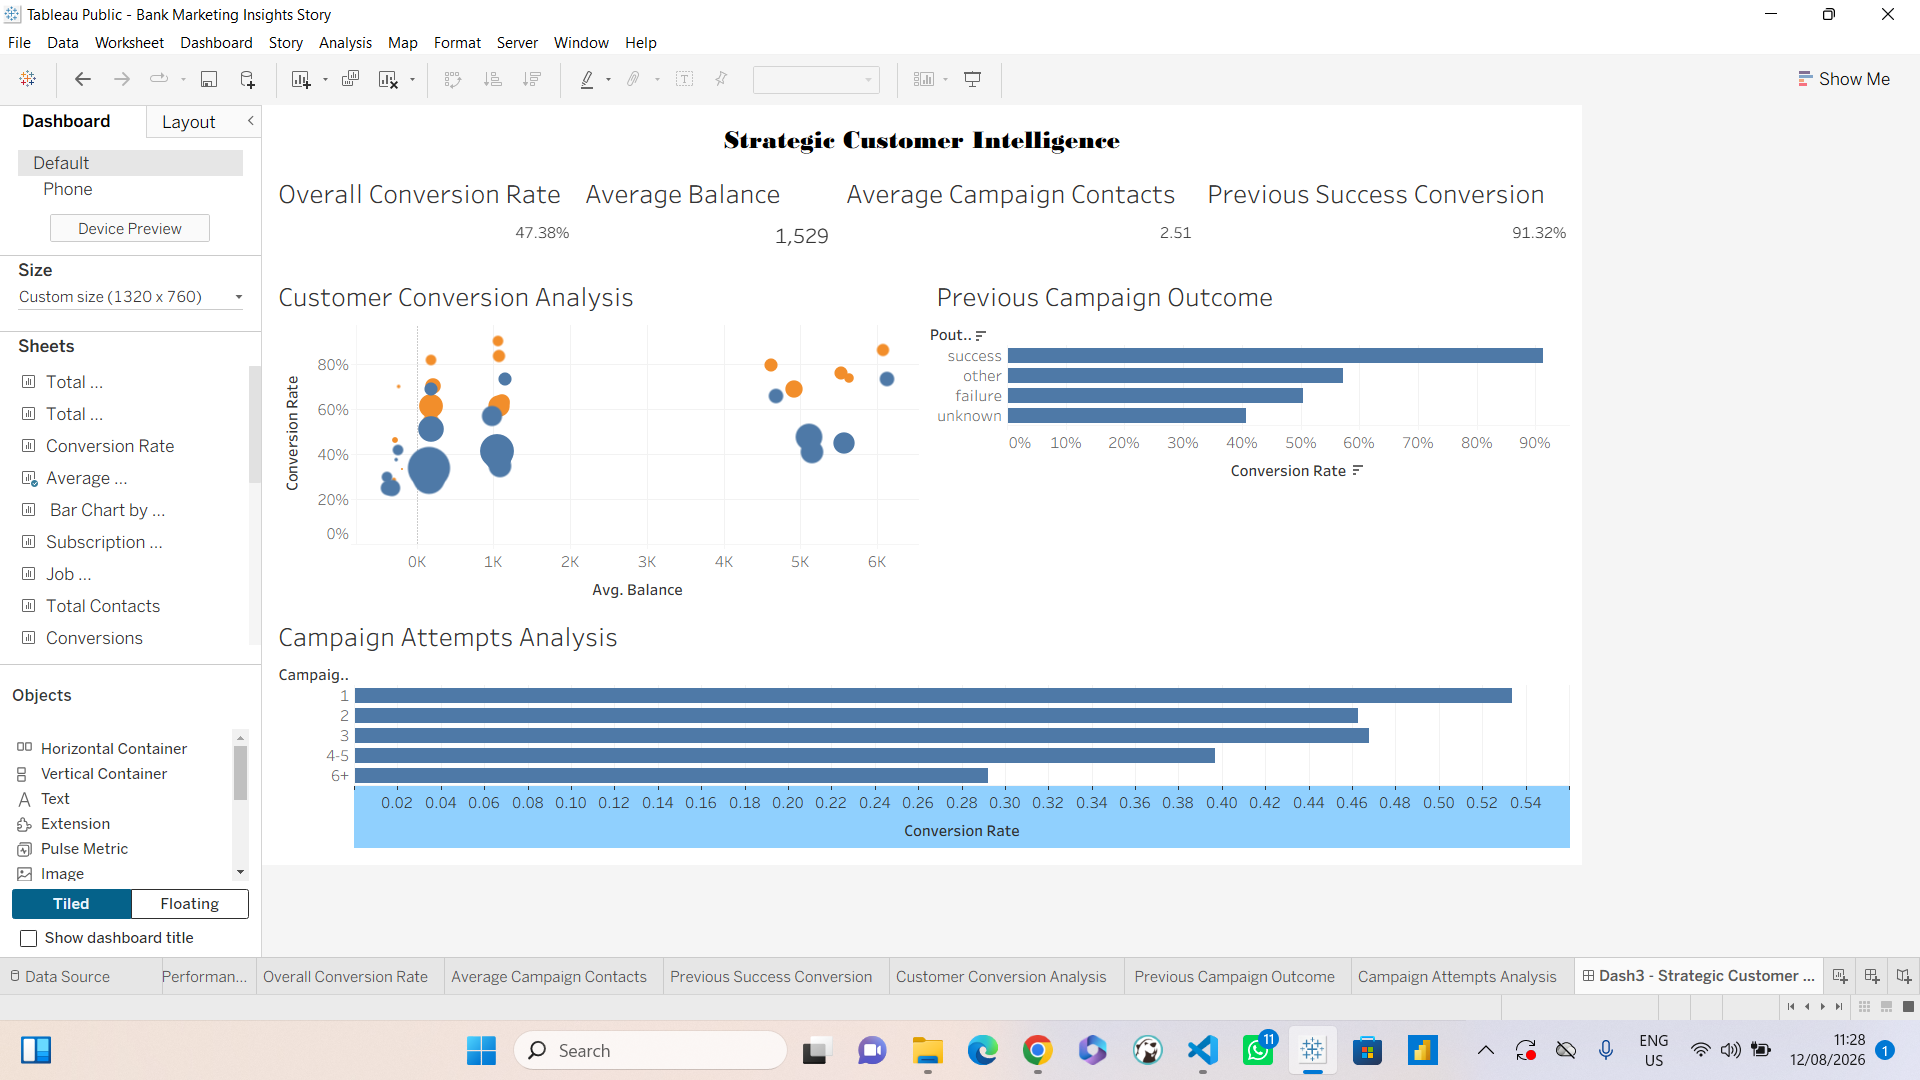

What the dashboard file says about the page in this screenshot:
{"tool":"tableau","page":{"name":"Dash3 - Strategic Customer Intelligence","canvas":[1320,760],"ordinal":2},"visuals":[{"type":"text","box":[8,8,1304,54.9]},{"type":"worksheet","title":"Overall Conversion Rate","mark":"Automatic","box":[8,62.9,307,103.1]},{"type":"worksheet","title":"Average Balance","mark":"Automatic","box":[315,62.9,261,103.1]},{"type":"worksheet","title":"Average Campaign Contacts","mark":"Automatic","box":[576,62.9,361,103.1]},{"type":"worksheet","title":"Previous Success Conversion","mark":"Automatic","box":[937,63,375,103]},{"type":"worksheet","title":"Customer Conversion Analysis","mark":"Circle","rows":["Calculation_0653690154676225"],"cols":["balance"],"box":[8,166,653,340]},{"type":"worksheet","title":" Previous Campaign Outcome","mark":"Automatic","rows":["poutcome"],"cols":["Calculation_0653690154676225"],"box":[661,166,651,340]},{"type":"worksheet","title":"Campaign Attempts Analysis","mark":"Automatic","rows":["Calculation_0653690179207184"],"cols":["Calculation_0653690154676225"],"box":[8,506,1304,246]}]}

Visuals, with their boxes on the page's 1320x760 design canvas (x1, y1, x2, y2). These are canvas units, not pixel positions in the 1920x1080 screenshot, which may show the page scaled, cropped or inside an application window:
text: <box>8,8,1312,63</box>
"Overall Conversion Rate" worksheet: <box>8,63,315,166</box>
"Average Balance" worksheet: <box>315,63,576,166</box>
"Average Campaign Contacts" worksheet: <box>576,63,937,166</box>
"Previous Success Conversion" worksheet: <box>937,63,1312,166</box>
"Customer Conversion Analysis" worksheet (Circle marks): <box>8,166,661,506</box>
" Previous Campaign Outcome" worksheet: <box>661,166,1312,506</box>
"Campaign Attempts Analysis" worksheet: <box>8,506,1312,752</box>
